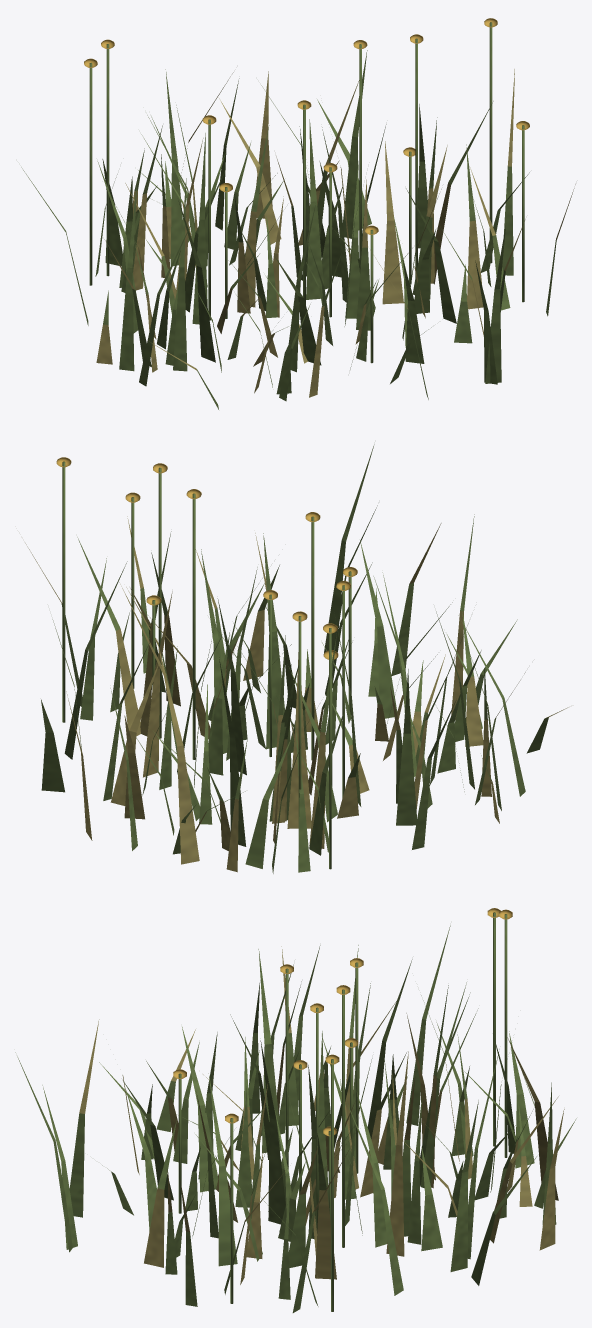
File: wildflowers.glb
The picture shows the model from 3 angles, top to bottom: view 1: azimuth 30°, elevation 25°; view 2: azimuth 150°, elevation 25°; view 3: azimuth 270°, elevation 25°; orthographic projection. The views are drawn at different scales.
Visible parts, largest first — view 1: wildflowers_Mesh; view 2: wildflowers_Mesh; view 3: wildflowers_Mesh.
Part boxes in pixels (x1,y1,x2,y2): wildflowers_Mesh: (21,18,575,409); wildflowers_Mesh: (25,444,568,873); wildflowers_Mesh: (15,908,576,1312).
Size of the model in its own units: 0.9138 by 0.4844 by 0.9331.
4 materials, 4 textured.
